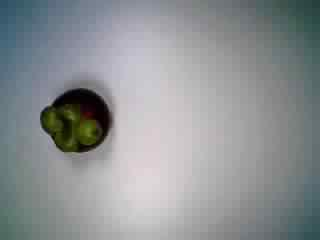mangosteen: (34, 83, 111, 158)
